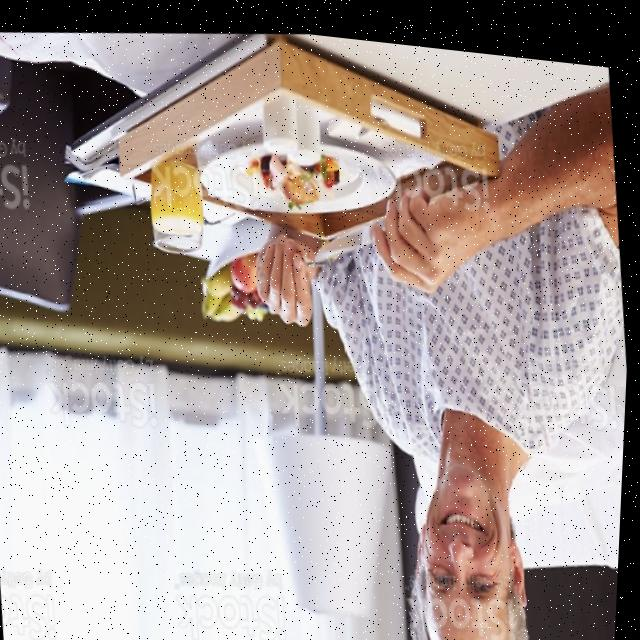eating-person: (112, 41, 629, 640)
